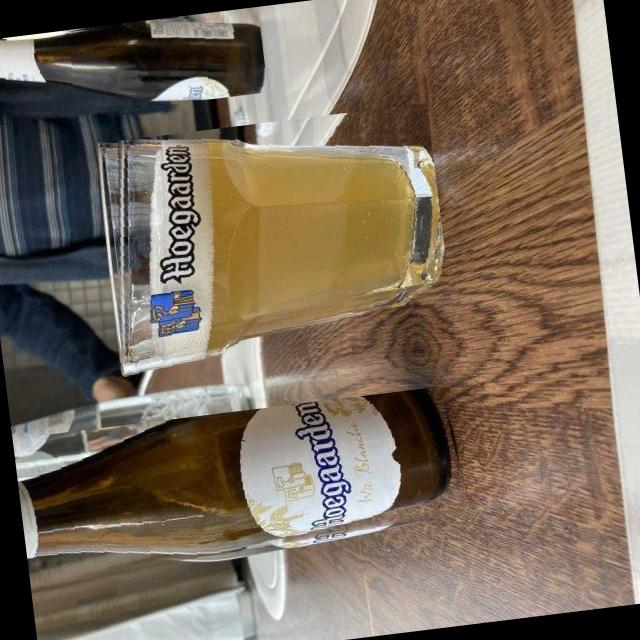Glass: (92, 101, 454, 376), (12, 383, 472, 584), (0, 5, 267, 126)
